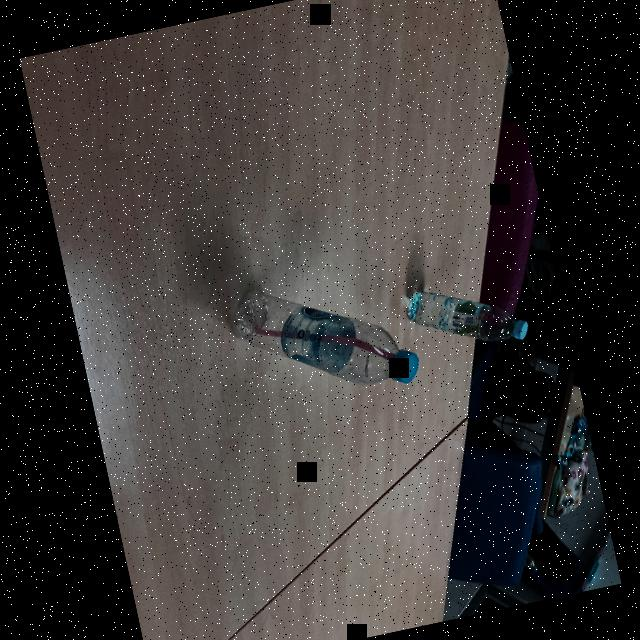plastic_bottle: (225, 260, 424, 416), (401, 266, 532, 361)
plastic_bottle_cap: (386, 346, 423, 389), (508, 318, 530, 339)
